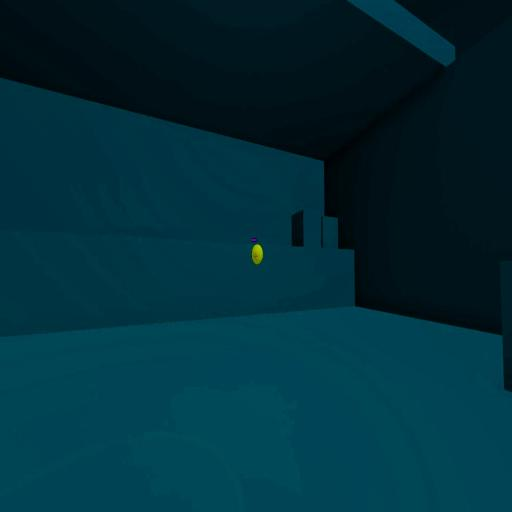Crosshair: (254, 252, 258, 260)
Target: (251, 243, 263, 265)
